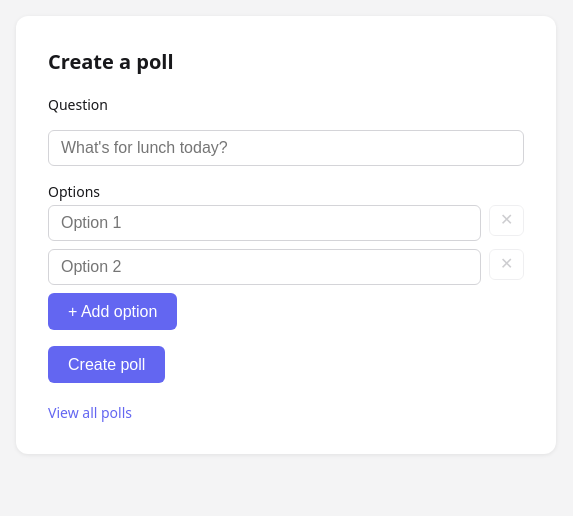
CreatePollForm › removes an option when the remove button is clicked
Add a third option so remove is enabled
Click the button "+ Add option" at (113, 312), box top-left (48, 293), bottom-right (177, 330)
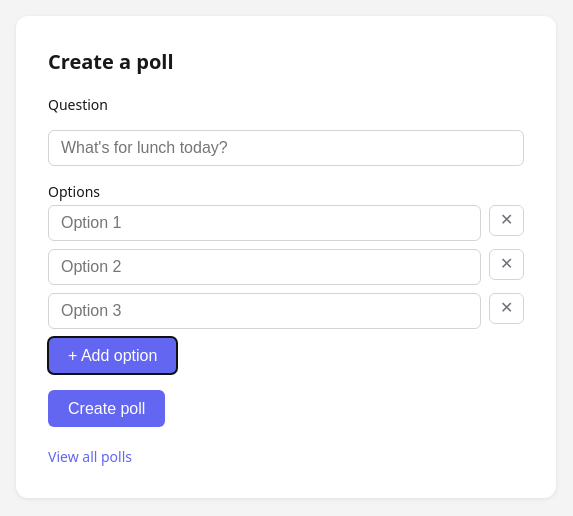
Click the button named "remove" at (507, 220), box top-left (489, 205), bottom-right (524, 236)
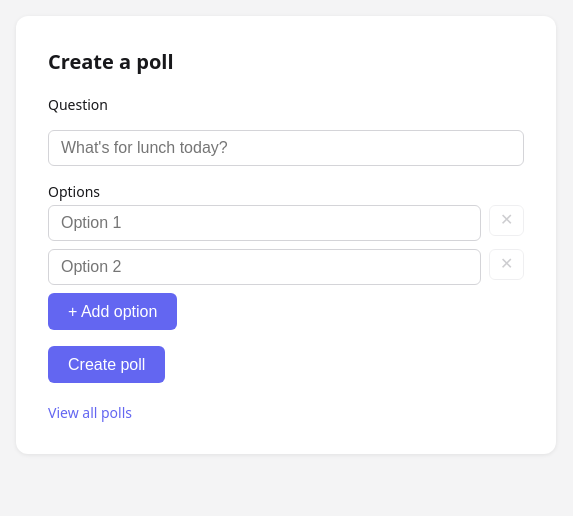
Expected: the number of fields with placeholder "Option 1" is 2, top-left (48, 205), bottom-right (481, 241); top-left (48, 249), bottom-right (481, 285)
